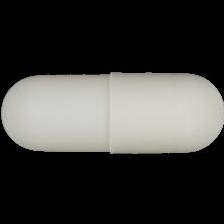64725-0221: (0, 0, 224, 224)
